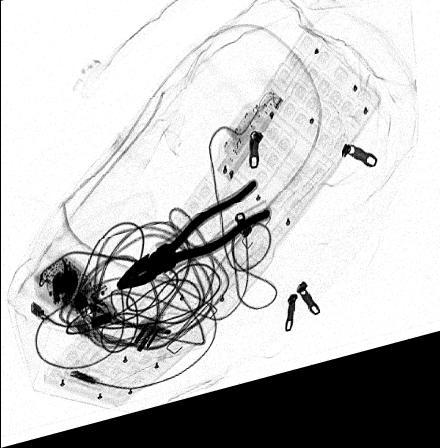Pliers: (113, 191, 269, 298)
